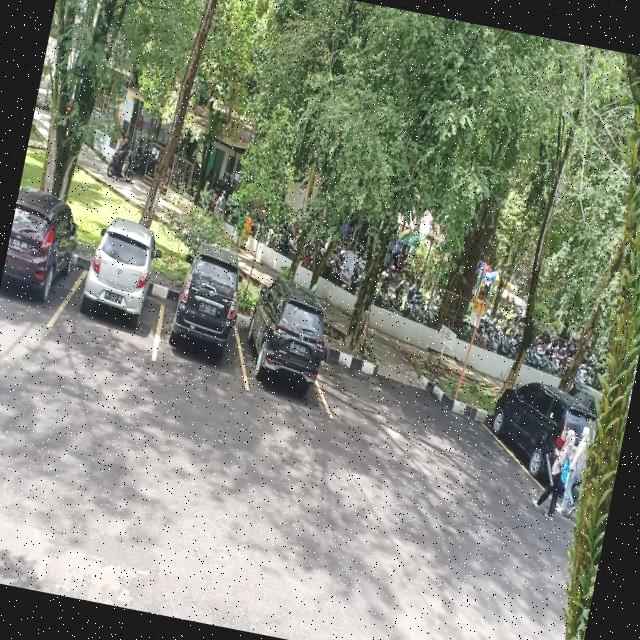occupied: (60, 241, 174, 349), (232, 304, 342, 408), (151, 277, 250, 378), (0, 214, 80, 326)
